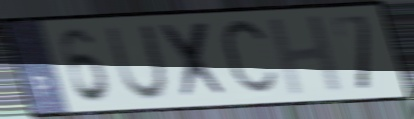6: (59, 25, 112, 107)
7: (329, 12, 374, 92)
C: (217, 14, 283, 102)
H: (265, 12, 348, 99)
U: (103, 22, 172, 103)
X: (156, 19, 234, 102)
